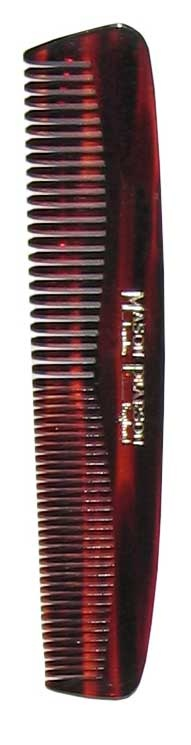grozi_17: (23, 23, 164, 700)
